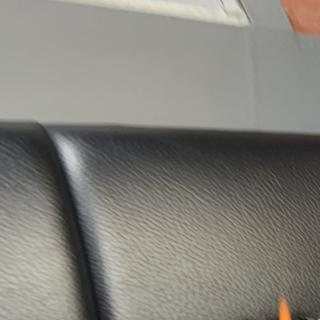fire: (278, 294, 294, 320)
